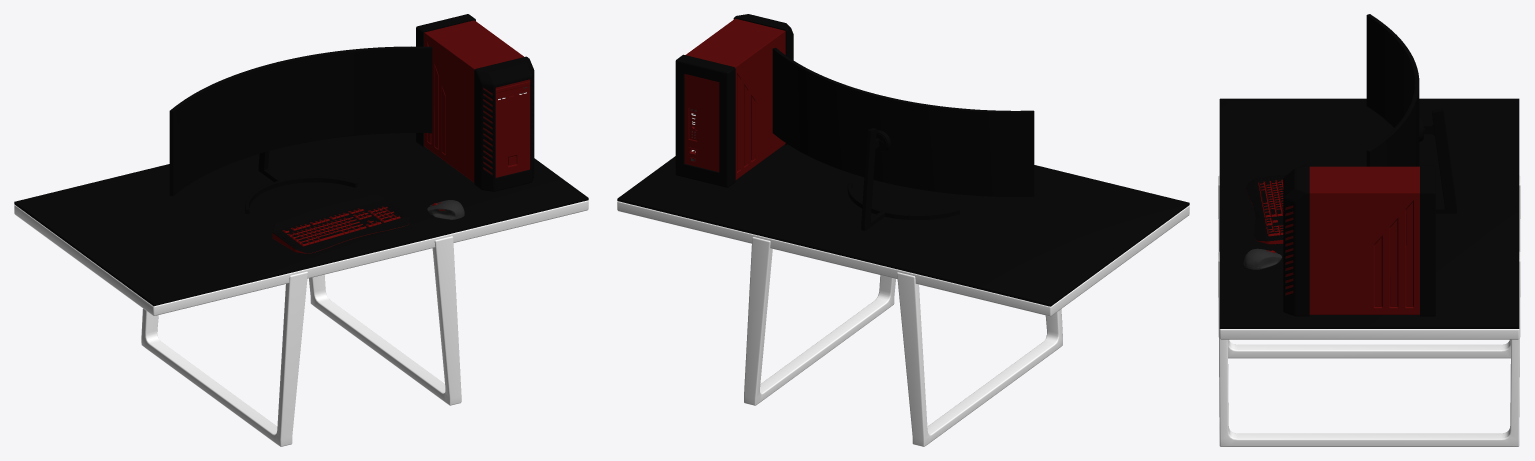
The model's file is PcModel-transformed.glb.
3 renders of one model, left to right at view 1: azimuth 30°, elevation 25°; view 2: azimuth 150°, elevation 25°; view 3: azimuth 270°, elevation 25°, orthographic. The views are drawn at different scales.
Parts seen in each view (by area): view 1: Object_2, Object_6, Object_4, Object_17, Object_3, Object_9, Object_5, Object_13, Object_15, Object_19, Object_8; view 2: Object_2, Object_5, Object_4, Object_17, Object_3, Object_9; view 3: Object_2, Object_17, Object_4, Object_9, Object_5, Object_6, Object_3, Object_13, Object_15, Object_19, Object_8.
Boxes of the visible parts, <box> form: Object_2: <box>14,133,588,306</box>; Object_6: <box>173,49,430,194</box>; Object_4: <box>141,236,461,446</box>; Object_17: <box>424,20,530,182</box>; Object_3: <box>14,200,588,315</box>; Object_9: <box>416,14,534,191</box>; Object_5: <box>169,46,432,213</box>; Object_13: <box>272,194,409,253</box>; Object_15: <box>272,206,409,253</box>; Object_19: <box>277,204,406,247</box>; Object_8: <box>427,200,464,219</box>; Object_2: <box>617,144,1189,306</box>; Object_5: <box>772,47,1034,230</box>; Object_4: <box>744,237,1062,446</box>; Object_17: <box>684,18,785,179</box>; Object_3: <box>617,201,1189,316</box>; Object_9: <box>675,14,793,187</box>; Object_2: <box>1219,98,1519,328</box>; Object_17: <box>1285,166,1419,314</box>; Object_4: <box>1218,175,1520,446</box>; Object_9: <box>1283,165,1435,316</box>; Object_5: <box>1366,14,1456,213</box>; Object_6: <box>1367,16,1414,127</box>; Object_3: <box>1219,329,1519,339</box>; Object_13: <box>1245,174,1286,241</box>; Object_15: <box>1245,179,1283,244</box>; Object_19: <box>1259,175,1285,239</box>; Object_8: <box>1243,248,1281,269</box>.
Size of the model in its own units: 1.8 by 1.17 by 1.01.
